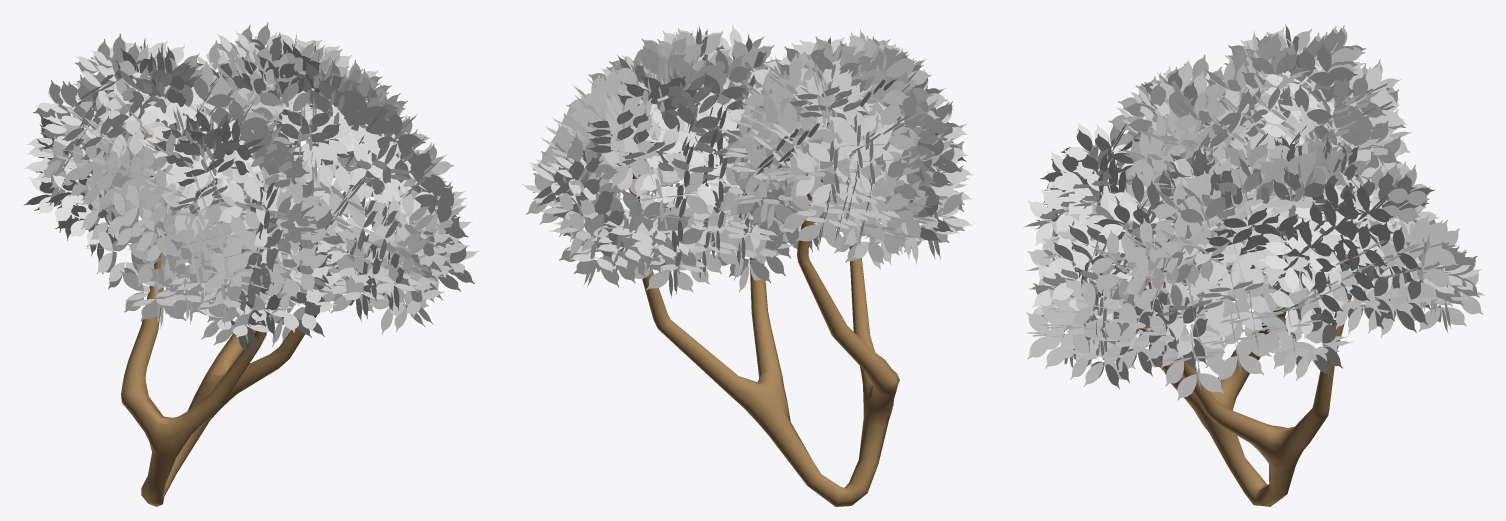
Rendered from Ingazeiro.fbx.
3 renders of one model, left to right at view 1: azimuth 30°, elevation 25°; view 2: azimuth 150°, elevation 25°; view 3: azimuth 270°, elevation 25°, orthographic. The views are drawn at different scales.
Visible parts, largest first — view 1: Folha_Folha_Ingazeiro.001, Ingazeiro_crescido; view 2: Folha_Folha_Ingazeiro.001, Ingazeiro_crescido; view 3: Folha_Folha_Ingazeiro.001, Ingazeiro_crescido.
Part boxes in pixels (box(x1,y1,x2,y2)): Folha_Folha_Ingazeiro.001: box(23, 22, 479, 353); Ingazeiro_crescido: box(121, 134, 347, 506); Folha_Folha_Ingazeiro.001: box(521, 25, 973, 298); Ingazeiro_crescido: box(628, 152, 899, 506); Folha_Folha_Ingazeiro.001: box(1023, 24, 1485, 400); Ingazeiro_crescido: box(1125, 107, 1377, 506).
Size of the model in its own units: 128 by 145 by 129.
